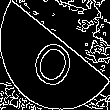O_NE: (27, 22, 83, 88)
